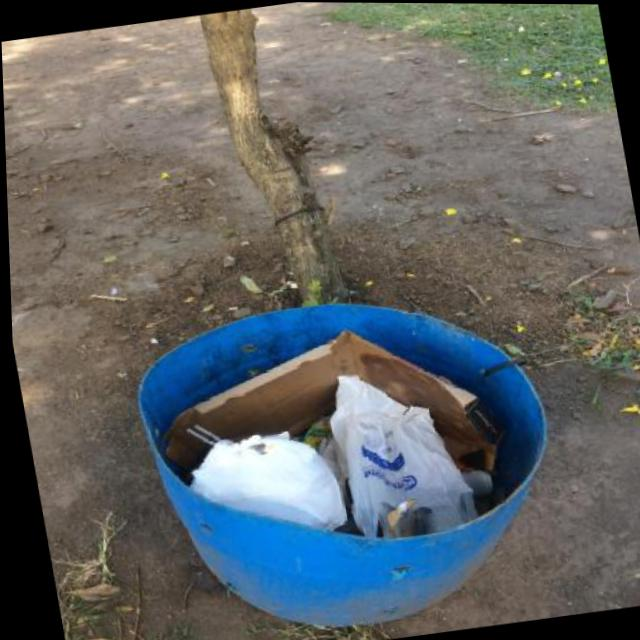cardboard: (142, 308, 516, 518), (296, 415, 338, 455)
plastic: (321, 359, 483, 548), (182, 425, 350, 549), (382, 498, 423, 539)
